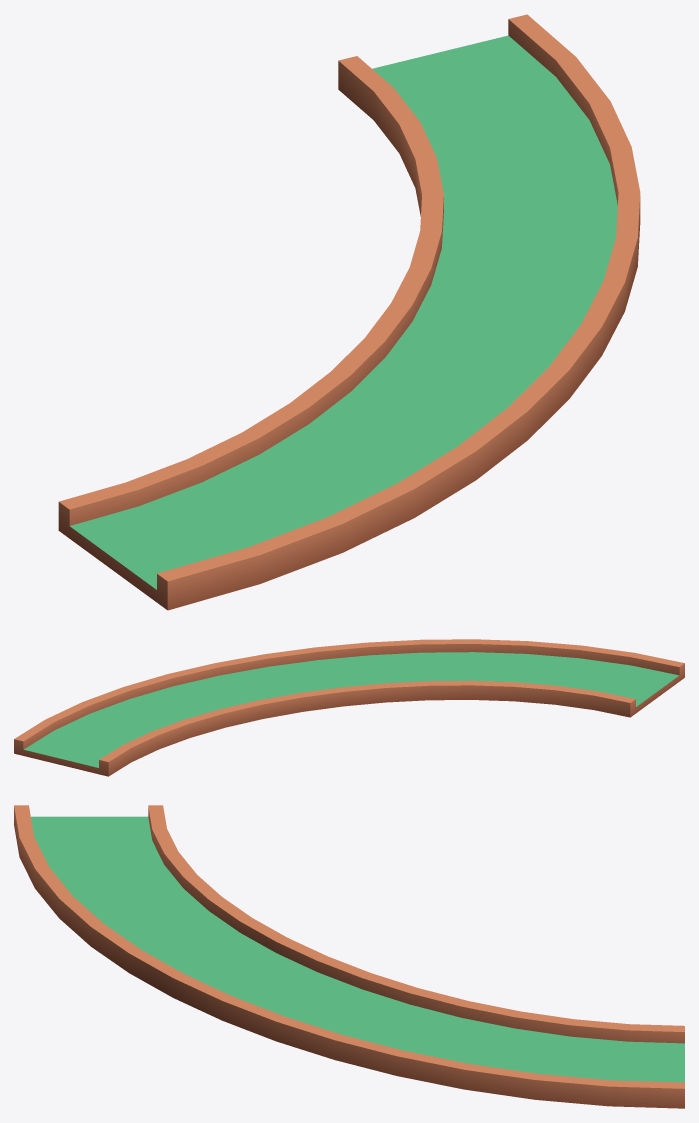
The model's file is spline-default-corner-large.glb.
The picture shows the model from 3 angles, top to bottom: view 1: azimuth 30°, elevation 25°; view 2: azimuth 150°, elevation 25°; view 3: azimuth 270°, elevation 25°; orthographic projection. The views are drawn at different scales.
Parts seen in each view (by area): view 1: spline-default-corner-large; view 2: spline-default-corner-large; view 3: spline-default-corner-large.
Part boxes in pixels (x1=…): spline-default-corner-large: x1=58, y1=14, x2=640, y2=610; spline-default-corner-large: x1=14, y1=639, x2=684, y2=776; spline-default-corner-large: x1=14, y1=805, x2=684, y2=1108.
Bounding box in the file's own units: 4.5 × 0.1467 × 4.5.
1 material, 1 textured.
